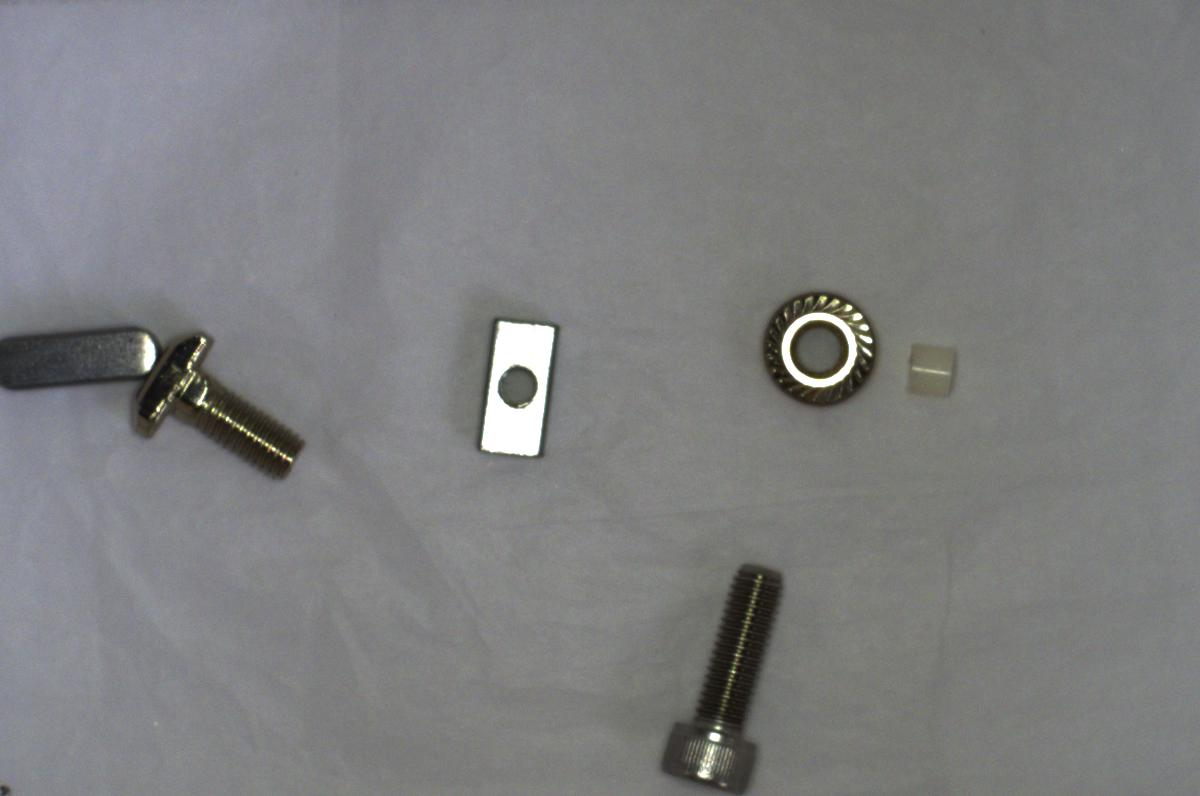Flange nut: (750, 280, 880, 402)
Hexagon screw: (641, 553, 793, 785)
Keybar: (0, 320, 161, 398)
Plastic cushion pillar: (897, 332, 964, 403)
Rectangular nut: (472, 309, 561, 469)
T-shaped screw: (128, 323, 311, 485)
